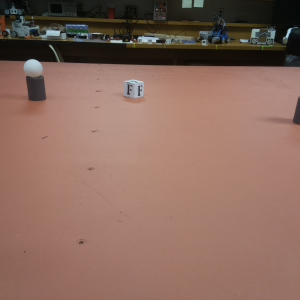blockF: (123, 79, 145, 100)
obstacle: (23, 59, 47, 103)
